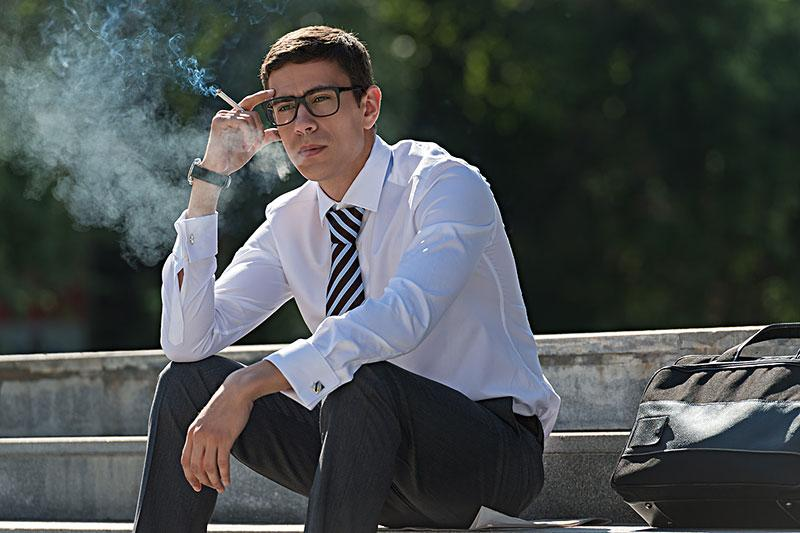smoke: (215, 88, 251, 116)
